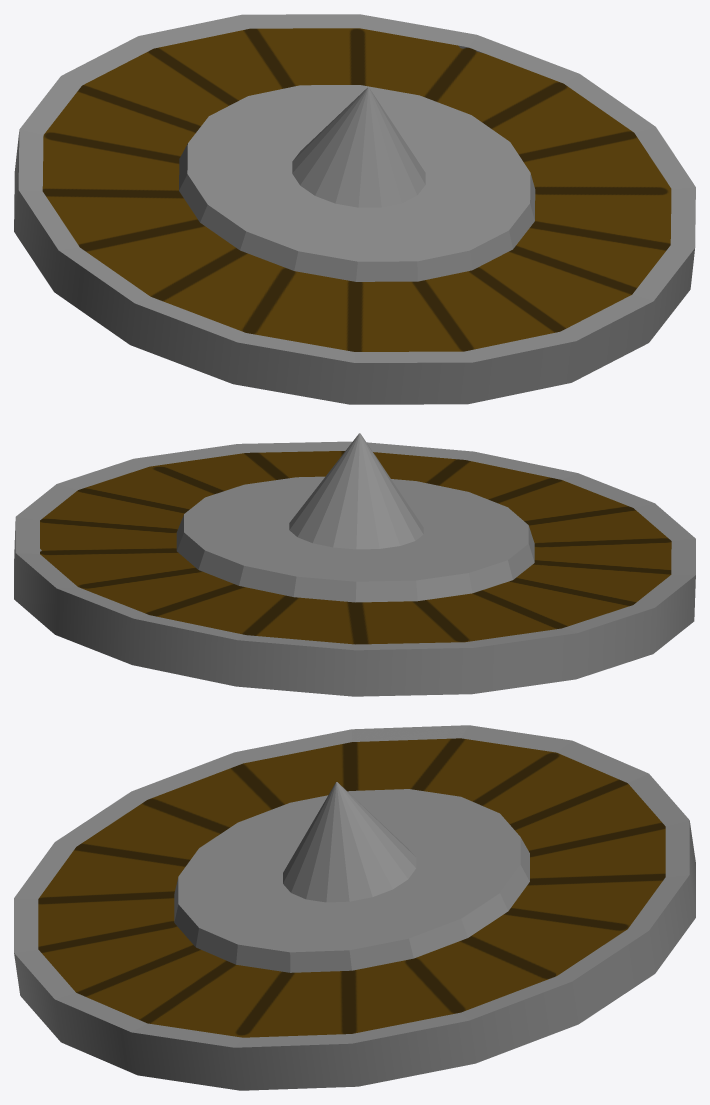
File: Shield.fbx
3 views of the same model, one above another, from view 1: azimuth 30°, elevation 25°; view 2: azimuth 150°, elevation 25°; view 3: azimuth 270°, elevation 25° (orthographic).
Parts seen in each view (by area): view 1: Shield; view 2: Shield; view 3: Shield.
Part boxes in pixels (x1,y1,x2,y2): Shield: (14, 14, 695, 404); Shield: (14, 433, 695, 696); Shield: (14, 725, 695, 1090).
Bounding box in the file's own units: 108 × 37.34 × 106.
